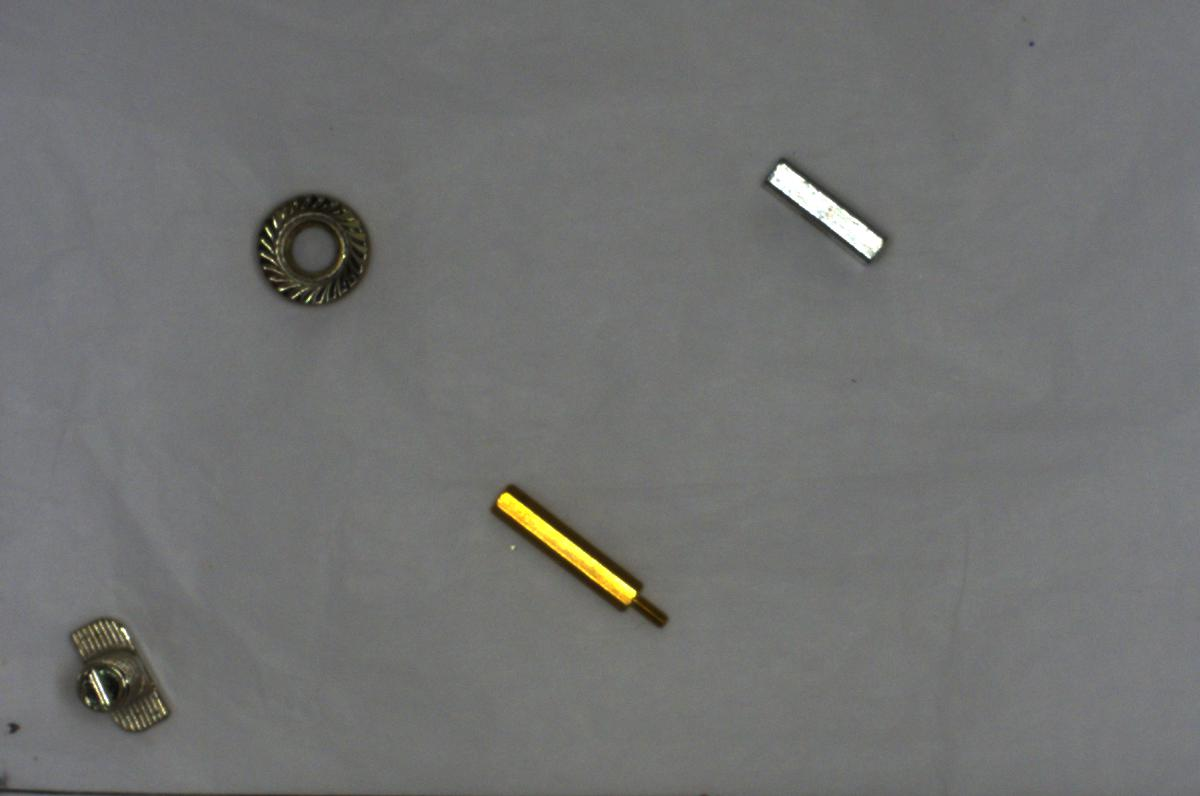Flange nut: (246, 186, 379, 313)
Hexagon pillar: (492, 481, 674, 634)
Rectangular nut: (750, 150, 899, 273)
T-shaped screw: (64, 609, 172, 739)
